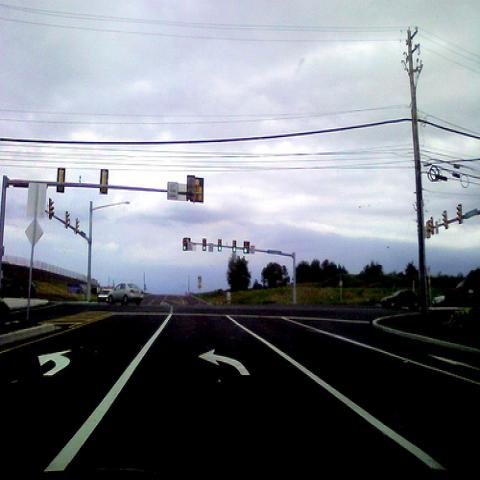car: (442, 266, 479, 311), (381, 290, 425, 309), (108, 282, 144, 305), (96, 289, 114, 302)
